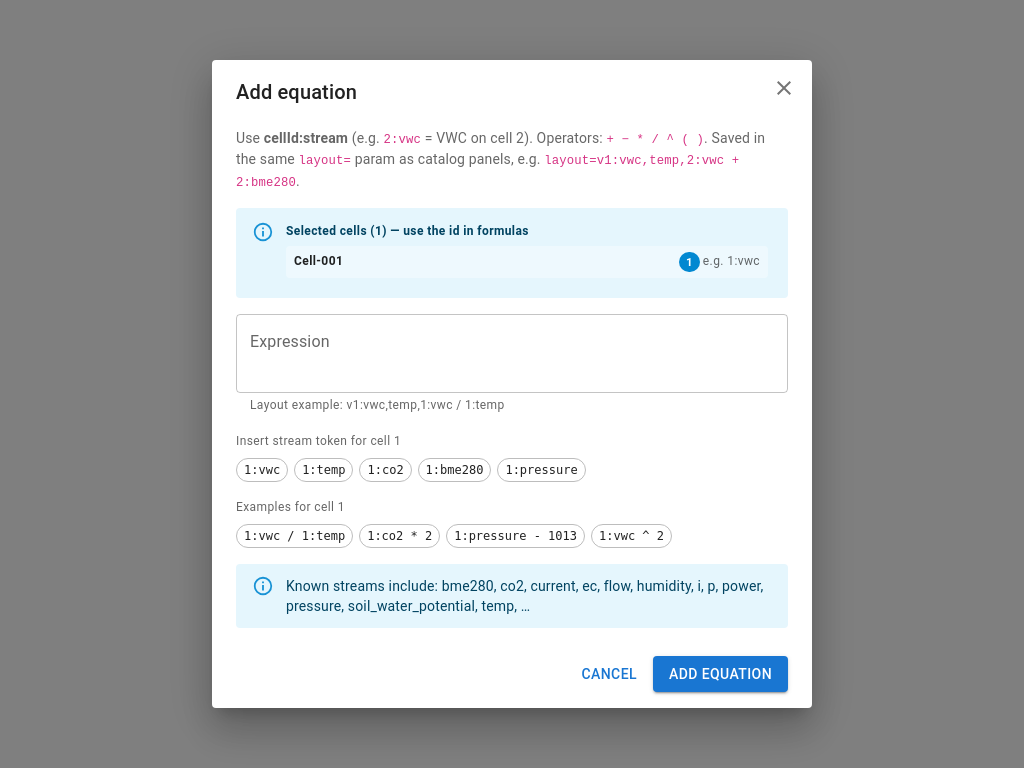
Test: AddEquationModal › shows client validation error for bare stream names
Type "vwc / temp" into the text box.
click(512, 354); type("vwc / temp")  # box [250,331,774,377]
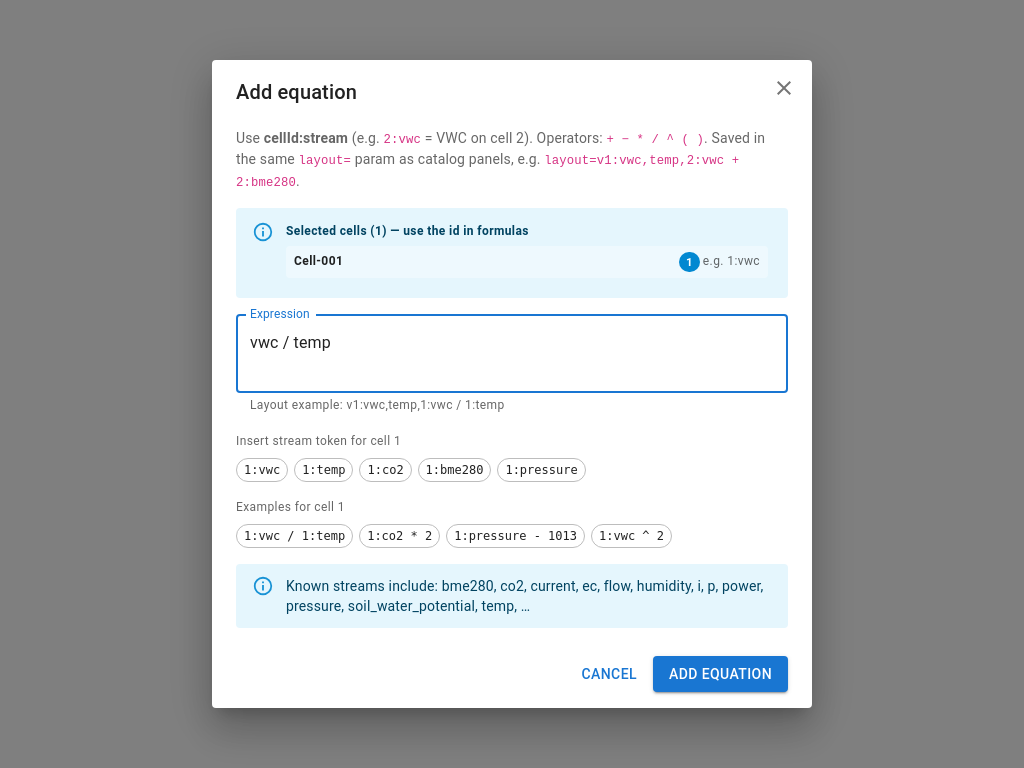
Click the button "Add equation".
click(720, 674)  # box [653,656,788,692]
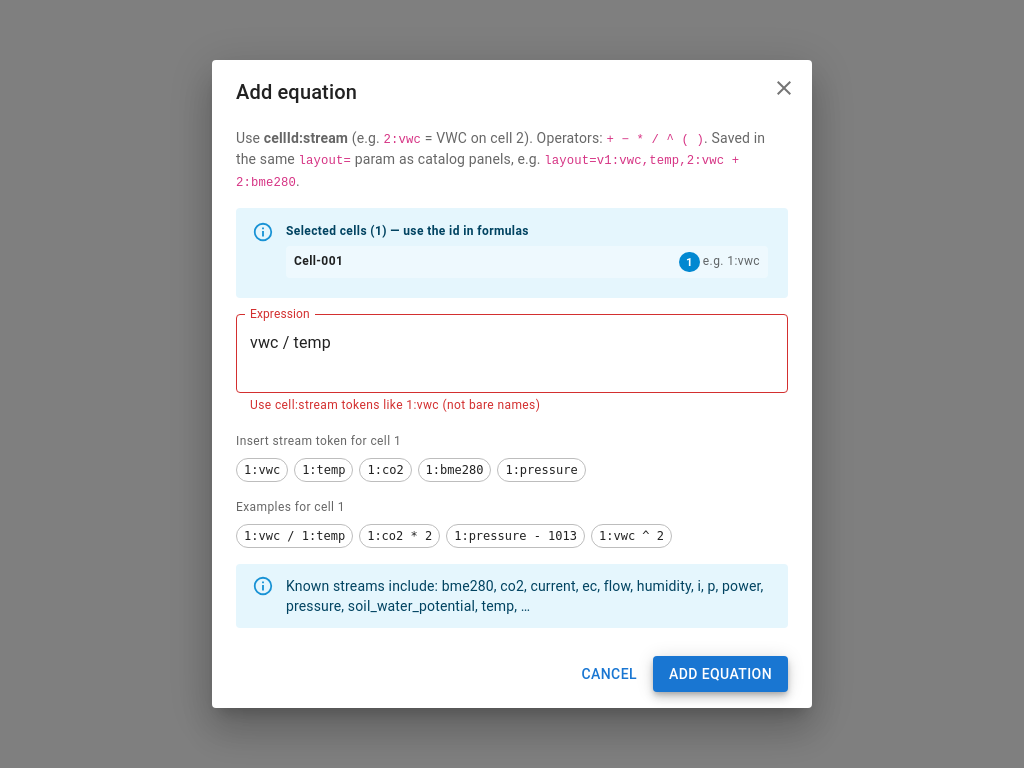
Result: the text "Use cell:stream tokens like 1:vwc (not bare names)" is shown at [250,398,540,412]
